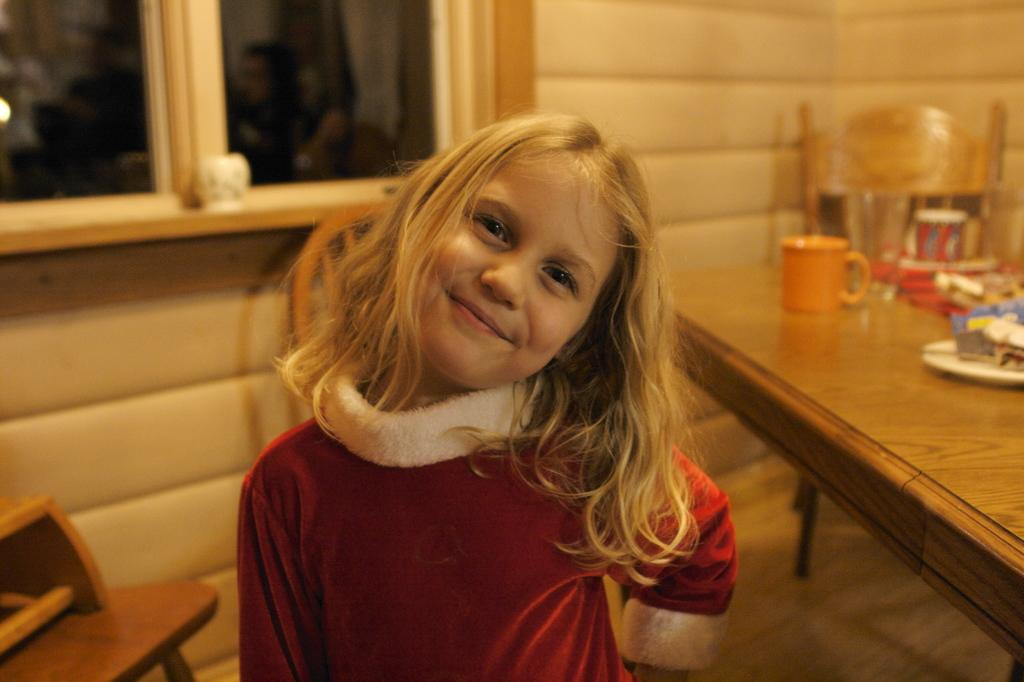Sem Máscara: (416, 150, 623, 388)
